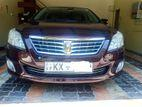car: (6, 6, 125, 84)
